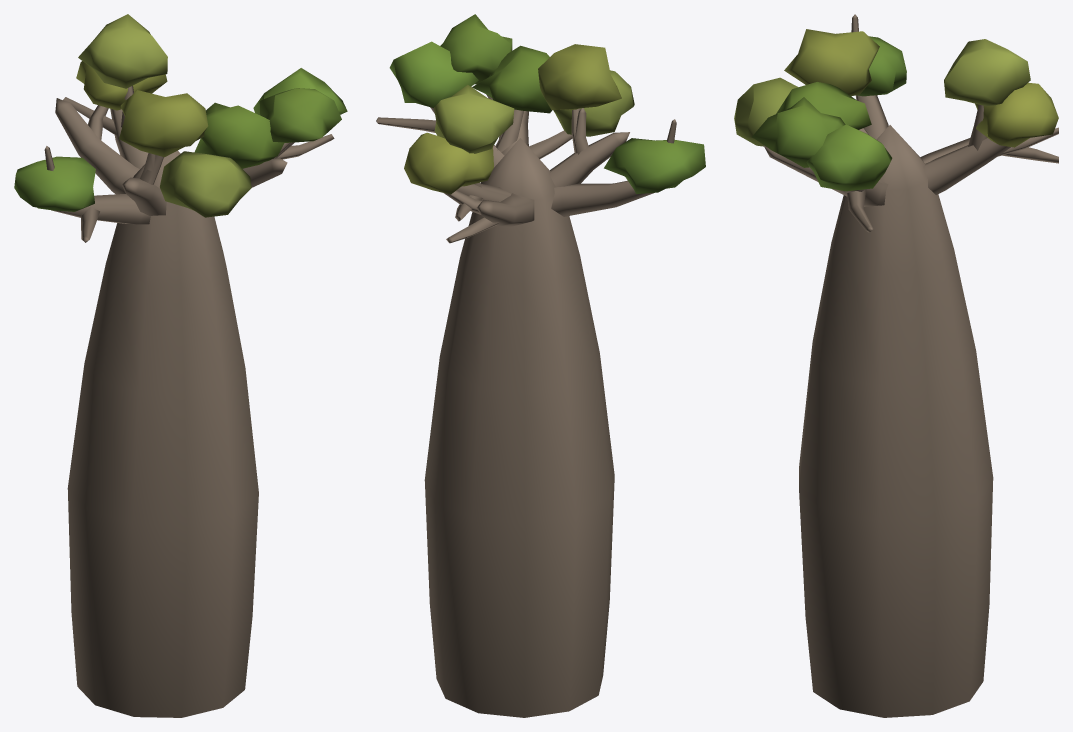
File: tree-baobab-a.glb
The picture shows the model from 3 angles, left to right: view 1: azimuth 30°, elevation 25°; view 2: azimuth 150°, elevation 25°; view 3: azimuth 270°, elevation 25°; orthographic projection. The views are drawn at different scales.
Visible parts, largest first — view 1: tree-baobab-a; view 2: tree-baobab-a; view 3: tree-baobab-a.
Part boxes in pixels (<box>): tree-baobab-a: <box>14,14,347,717</box>; tree-baobab-a: <box>376,14,705,717</box>; tree-baobab-a: <box>734,14,1058,717</box>.
Bounding box in the file's own units: 0.9018 × 1.7 × 0.7844.
